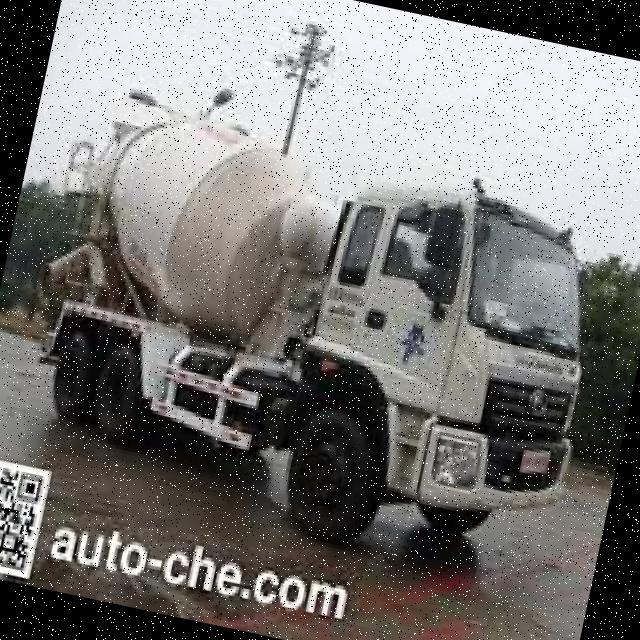Mixer Truck: (0, 55, 634, 596)
